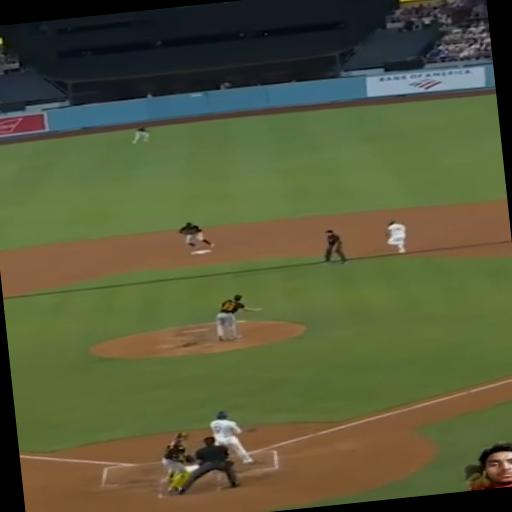bat: (241, 427, 254, 433)
